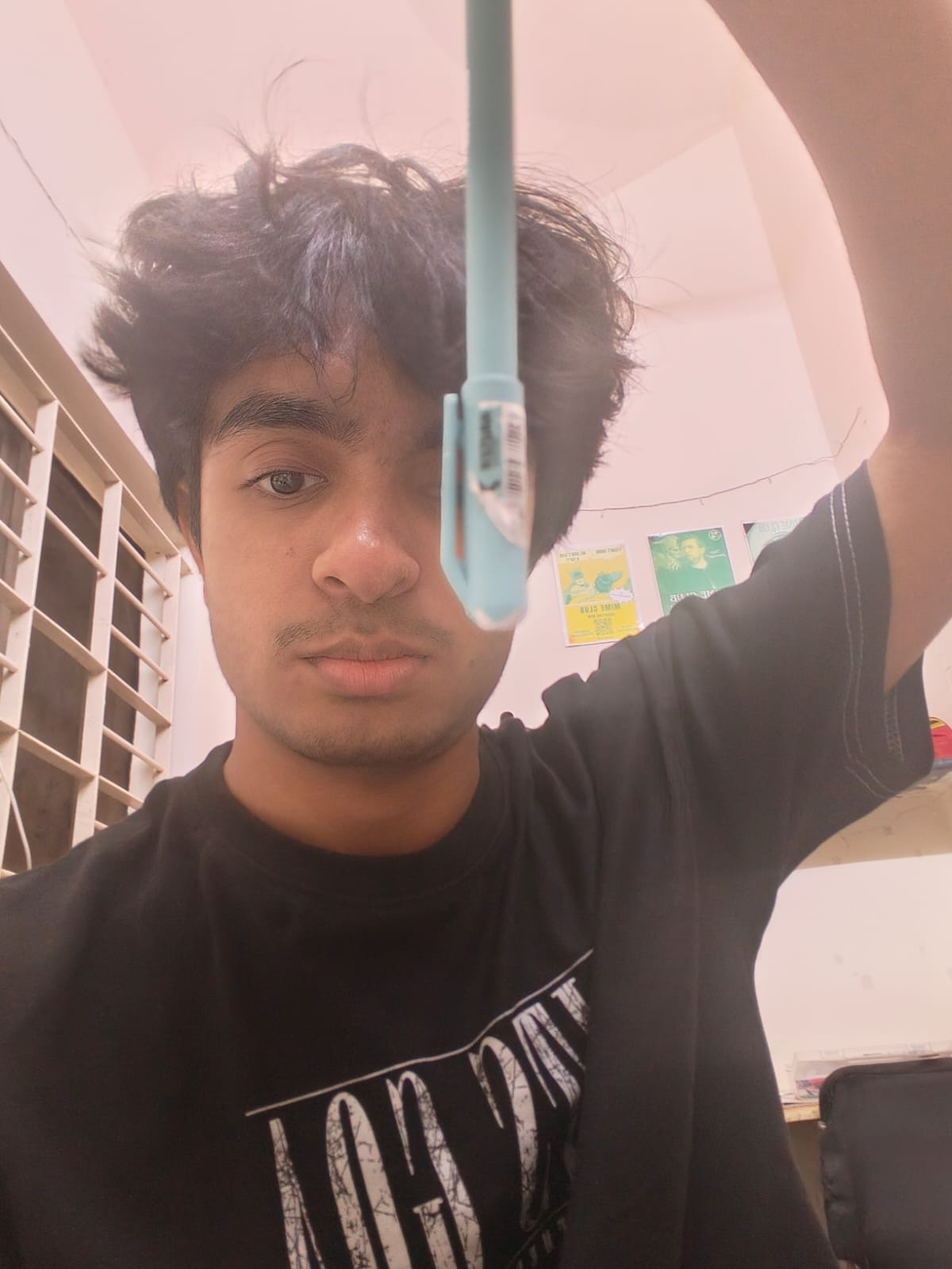pen: (439, 13, 551, 632)
